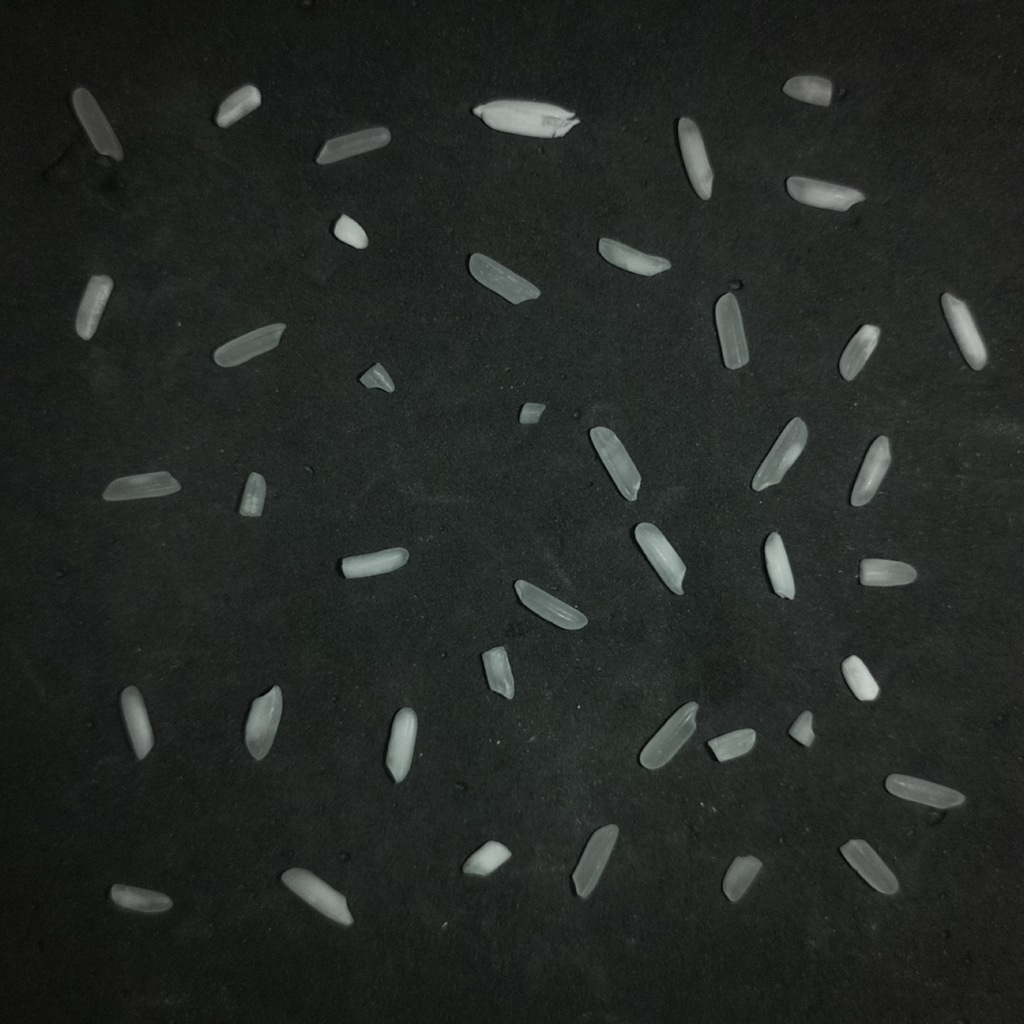broken: (723, 855, 761, 902), (859, 558, 916, 586), (708, 728, 755, 761), (238, 472, 266, 517), (359, 363, 393, 392), (788, 711, 814, 746), (519, 402, 545, 424)
chalky: (281, 868, 353, 926), (635, 522, 685, 594), (941, 293, 987, 369), (677, 117, 713, 200), (598, 237, 670, 276), (851, 435, 890, 506), (786, 176, 865, 211), (246, 685, 282, 760), (120, 686, 153, 759), (385, 707, 417, 782), (75, 275, 112, 339), (341, 547, 408, 578), (764, 532, 794, 598), (215, 84, 260, 127), (462, 840, 510, 876), (482, 646, 514, 699), (841, 655, 878, 700), (782, 74, 832, 106), (333, 214, 367, 249)
foreign: (473, 99, 579, 138)
whole: (751, 417, 807, 490), (639, 702, 698, 769), (589, 426, 640, 500), (71, 87, 122, 160), (468, 253, 540, 303), (514, 580, 587, 629), (572, 824, 618, 898), (840, 839, 898, 894), (213, 324, 285, 367), (885, 774, 964, 809), (316, 127, 390, 164), (715, 292, 748, 369), (102, 471, 180, 501), (839, 324, 880, 380), (109, 884, 171, 913)
